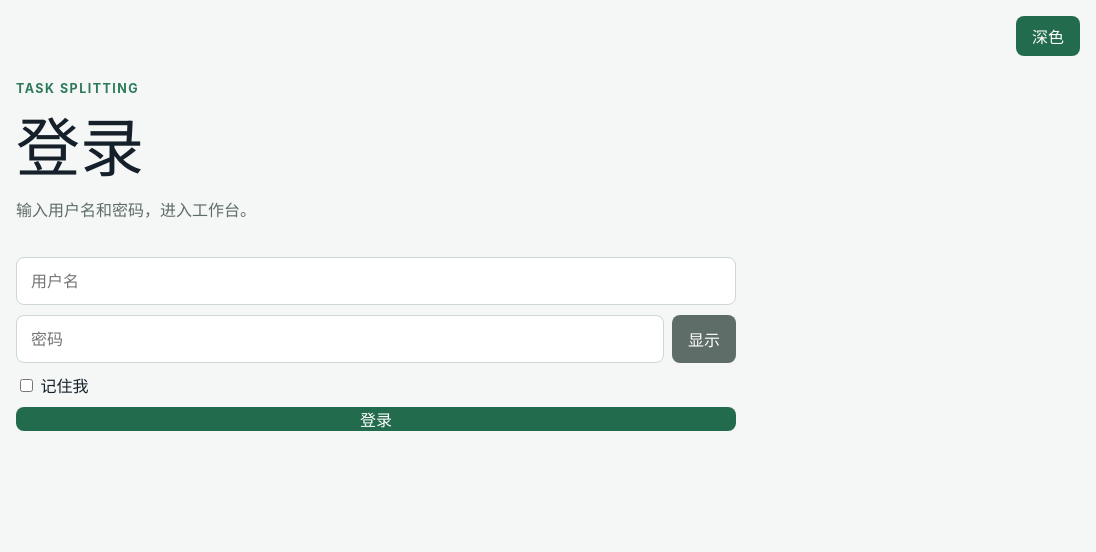
Scenario: T00301 个人中心头像上传 › 工作台显示"个人中心"入口,登录后默认为占位头像
The image size is (1096, 552).
Type "alice" into the field with placeholder "用户名" at coordinates (376, 281), box [16,257,736,305]
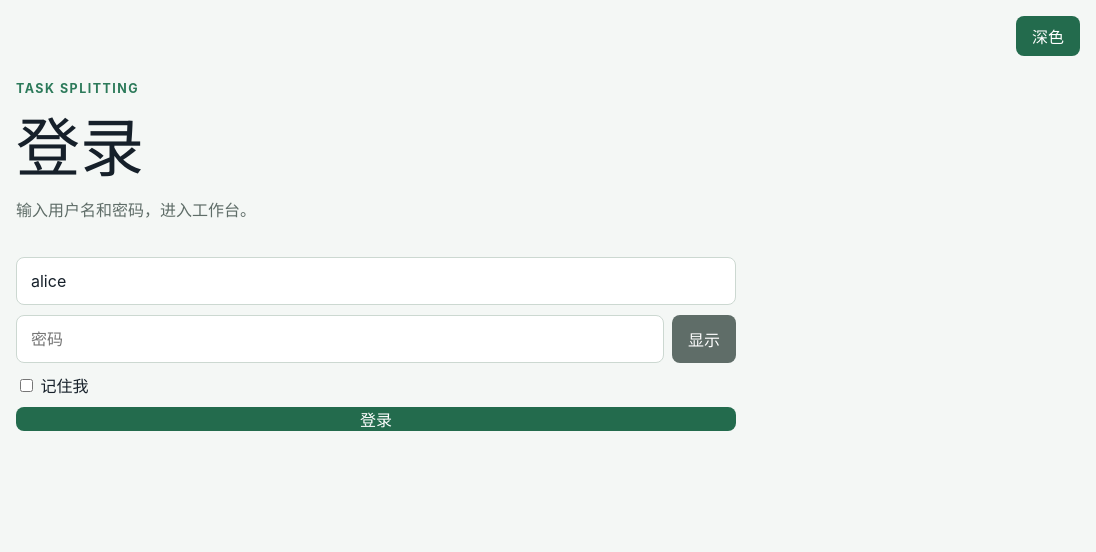
Type "secret" into the password field with placeholder "密码" at coordinates (340, 339), box [16,315,664,363]
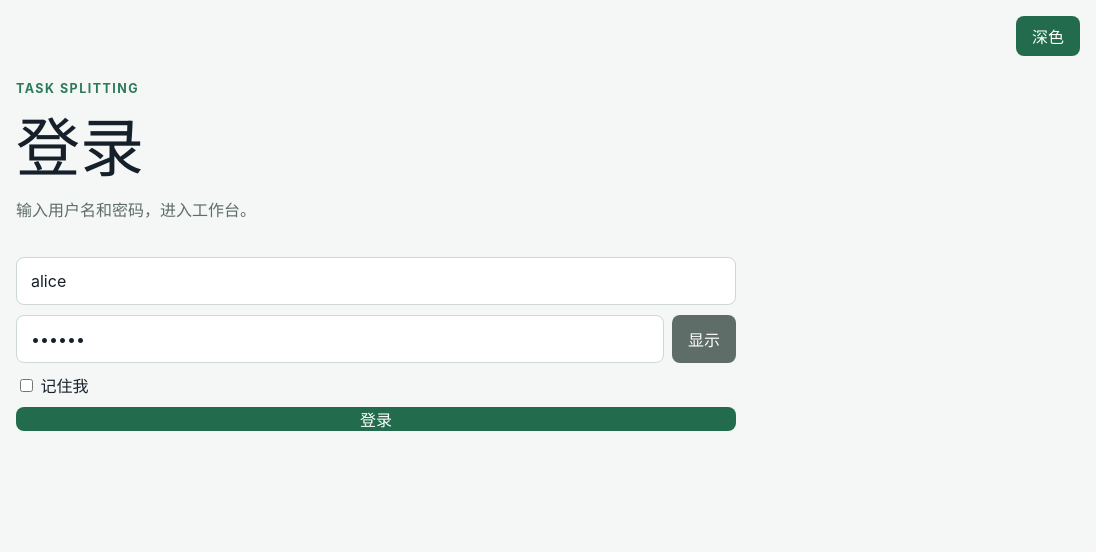
Submit the form from the button "登录", box [16,407,736,431]
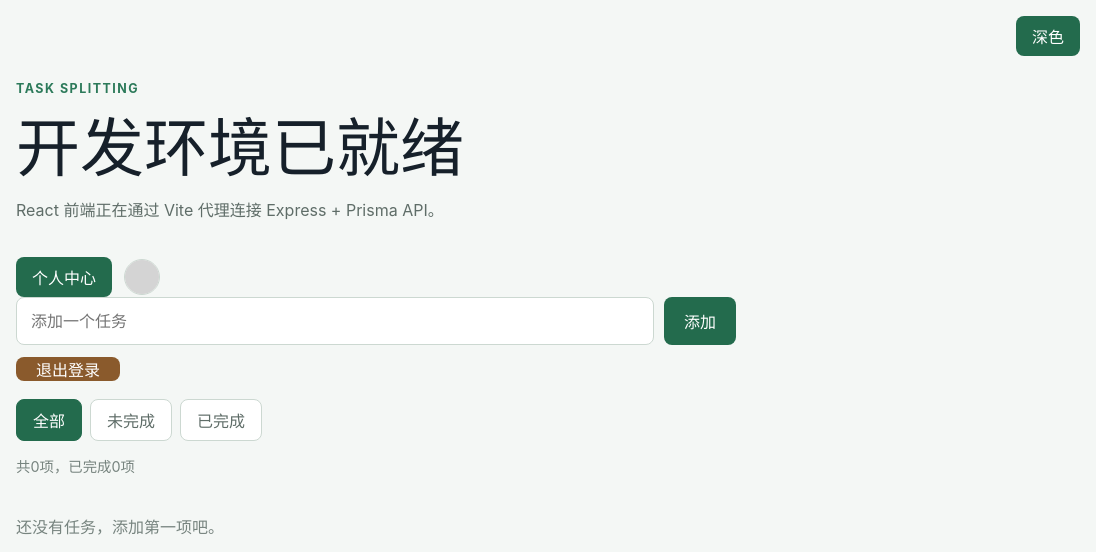
Check: the button "个人中心" is shown, box [16,257,112,297]
